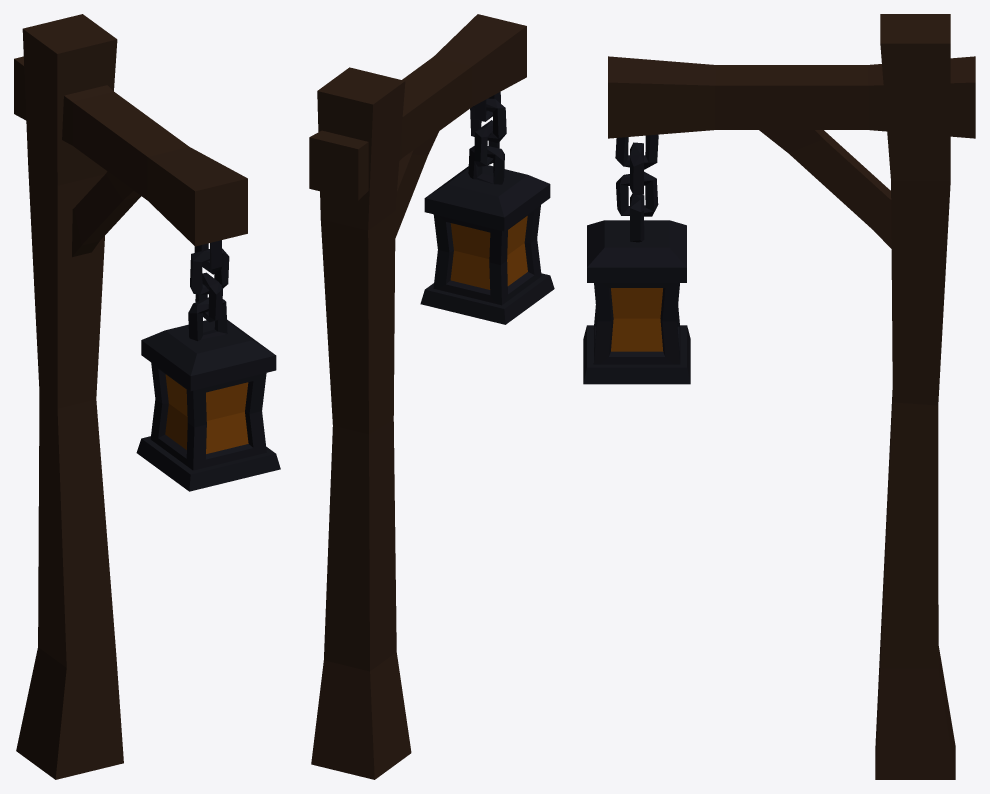
Rendered from lantern.obj.
3 renders of one model, left to right at view 1: azimuth 30°, elevation 25°; view 2: azimuth 150°, elevation 25°; view 3: azimuth 270°, elevation 25°, orthographic. The views are drawn at different scales.
Parts seen in each view (by area): view 1: Cube.012_Cube.017, Plane.001_Plane.003, Plane.003_Plane.006, Plane.002_Plane.004, Plane.004_Plane.007; view 2: Cube.012_Cube.017, Plane.001_Plane.003, Plane.003_Plane.006, Plane.002_Plane.004; view 3: Cube.012_Cube.017, Plane.002_Plane.004, Plane.004_Plane.007, Plane.003_Plane.006, Plane.001_Plane.003.
Part boxes in pixels (<box>): Cube.012_Cube.017: <box>14,14,280,779</box>; Plane.001_Plane.003: <box>188,297,227,341</box>; Plane.003_Plane.006: <box>190,248,229,294</box>; Plane.002_Plane.004: <box>195,272,222,322</box>; Plane.004_Plane.007: <box>194,240,222,274</box>; Cube.012_Cube.017: <box>309,14,554,779</box>; Plane.001_Plane.003: <box>468,146,504,184</box>; Plane.003_Plane.006: <box>470,98,506,142</box>; Plane.002_Plane.004: <box>474,120,499,166</box>; Cube.012_Cube.017: <box>583,14,975,779</box>; Plane.002_Plane.004: <box>616,171,658,216</box>; Plane.004_Plane.007: <box>615,134,658,169</box>; Plane.003_Plane.006: <box>630,142,643,195</box>; Plane.001_Plane.003: <box>630,194,644,242</box>.
Bounding box in the file's own units: 0.7879 × 5.95 × 2.88.
